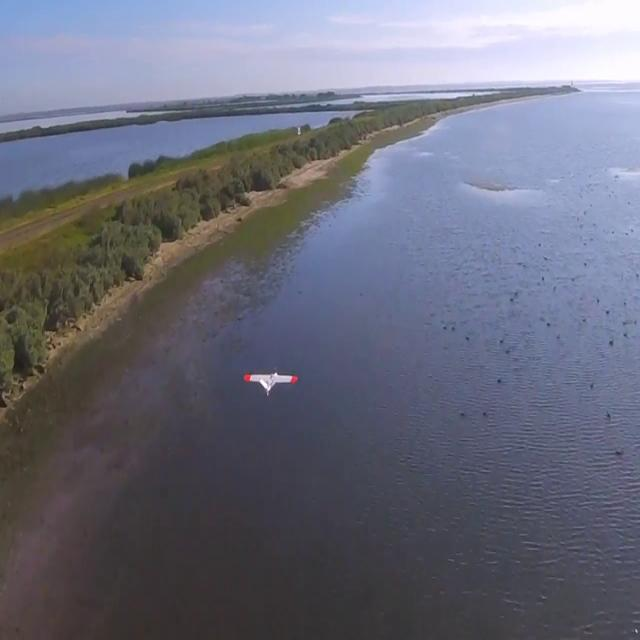iha: (243, 370, 299, 399)
